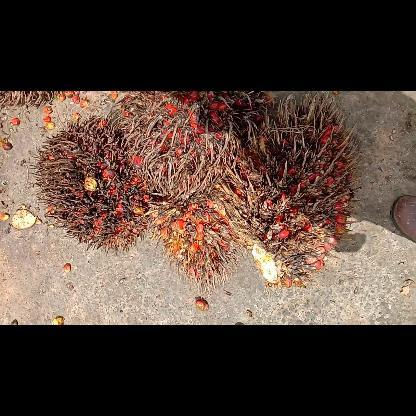Terlalu masak: (204, 91, 366, 291), (26, 108, 158, 256), (108, 91, 276, 199), (140, 186, 248, 298)
